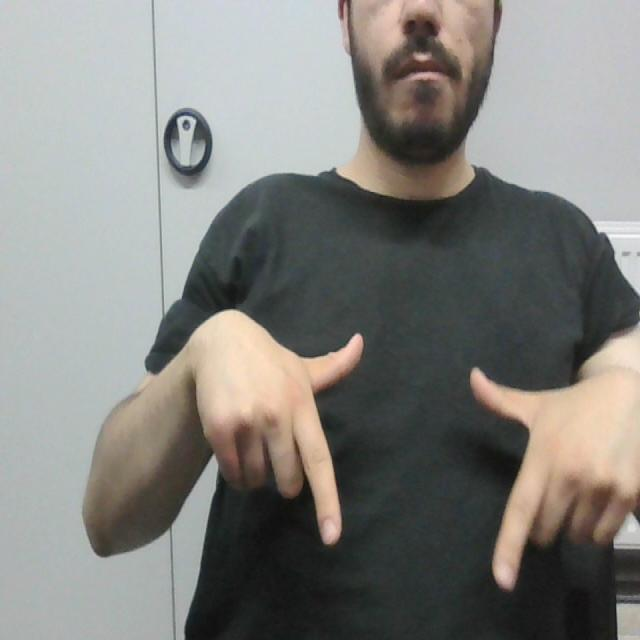Nerede: (287, 327, 563, 594)
